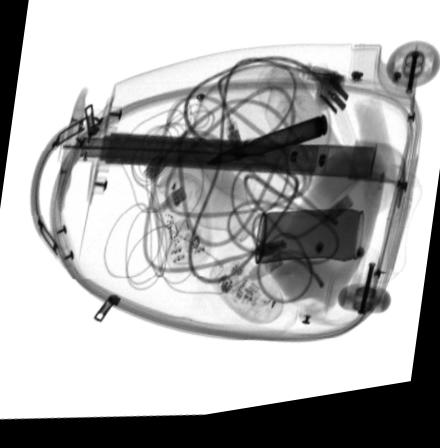Bullet: (205, 124, 328, 174)
